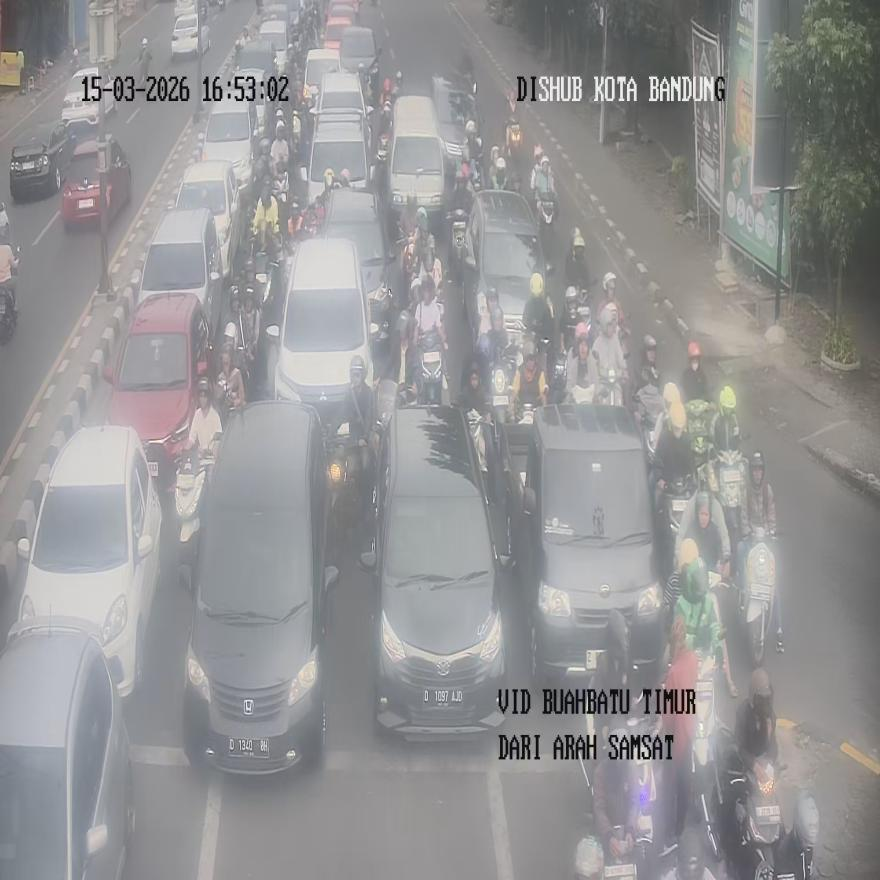Motor: (178, 400, 339, 773), (360, 403, 508, 738), (506, 404, 663, 682), (14, 424, 162, 698), (0, 614, 135, 878), (103, 292, 212, 493), (136, 206, 222, 343)
Truk: (590, 713, 657, 878), (718, 740, 786, 879), (688, 658, 720, 862), (737, 529, 779, 666), (173, 440, 213, 552), (488, 343, 518, 443), (465, 408, 494, 504), (0, 244, 21, 343), (420, 340, 448, 406), (448, 208, 468, 282), (135, 38, 151, 90), (505, 119, 521, 160)
